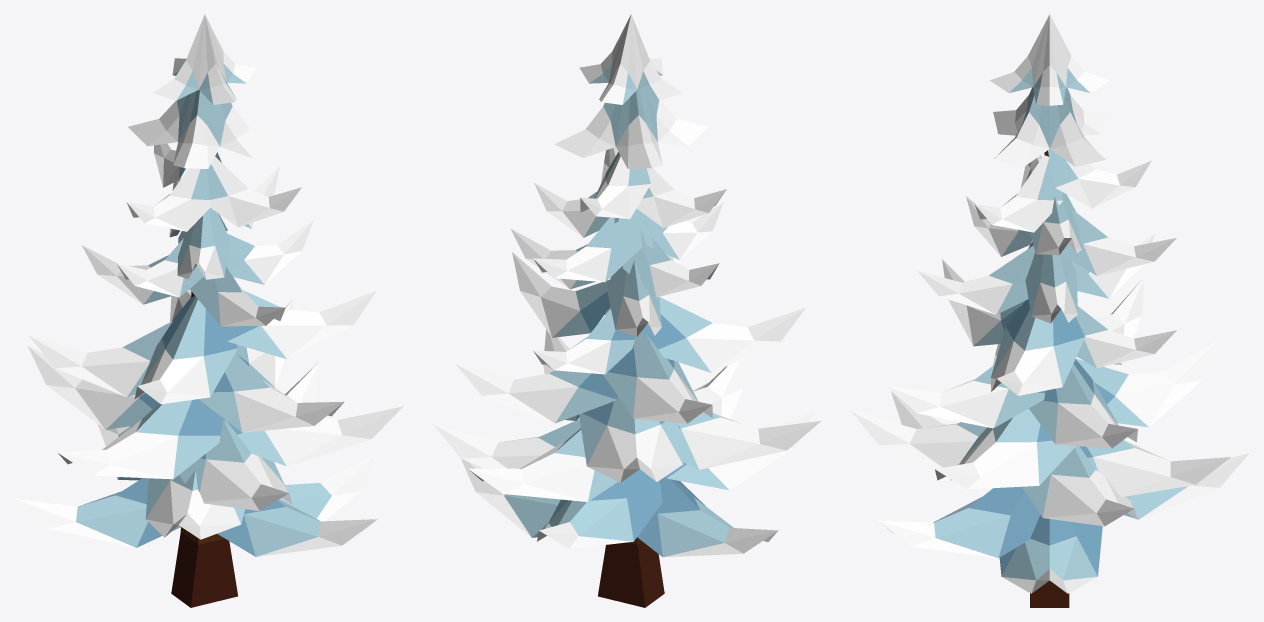
Rendered from spruce1.fbx.
3 views of the same model, side by side, from view 1: azimuth 30°, elevation 25°; view 2: azimuth 150°, elevation 25°; view 3: azimuth 270°, elevation 25° (orthographic).
Visible parts, largest first — view 1: plane_6, plane_12, plane_23, plane_9, plane_13, plane_3, plane_4, plane_15, plane_8, plane_11, plane_2, stem (+13 smaller); view 2: plane_7, plane_23, plane_12, plane_10, plane_3, plane_11, plane_14, plane_1, plane_6, plane_15, plane_24, plane_19 (+13 smaller); view 3: plane_4, plane_8, plane_15, plane_23, plane, plane_7, plane_14, plane_5, plane_13, plane_1, plane_24, plane_9 (+14 smaller).
Boxes of the visible parts, bbox=[...] form: plane_6: bbox=[57, 399, 225, 479]; plane_12: bbox=[134, 296, 237, 404]; plane_23: bbox=[128, 90, 281, 168]; plane_9: bbox=[179, 420, 292, 510]; plane_13: bbox=[199, 353, 344, 432]; plane_3: bbox=[15, 478, 180, 547]; plane_4: bbox=[217, 499, 377, 556]; plane_15: bbox=[221, 290, 376, 359]; plane_8: bbox=[226, 406, 403, 466]; plane_11: bbox=[29, 321, 172, 396]; plane_2: bbox=[145, 470, 245, 539]; stem: bbox=[171, 291, 237, 607]; plane_7: bbox=[579, 397, 684, 482]; plane_23: bbox=[554, 90, 707, 168]; plane_12: bbox=[642, 297, 805, 372]; plane_10: bbox=[537, 469, 662, 548]; plane_3: bbox=[637, 476, 778, 557]; plane_11: bbox=[603, 330, 712, 423]; plane_14: bbox=[455, 363, 617, 423]; plane_1: bbox=[468, 428, 617, 501]; plane_6: bbox=[676, 412, 820, 469]; plane_15: bbox=[512, 252, 610, 337]; plane_24: bbox=[579, 14, 682, 104]; plane_19: bbox=[533, 208, 642, 282]; plane_4: bbox=[876, 486, 1040, 558]; plane_8: bbox=[935, 408, 1075, 489]; plane_15: bbox=[991, 299, 1085, 395]; plane_23: bbox=[993, 87, 1106, 166]; plane: bbox=[999, 515, 1102, 593]; plane_7: bbox=[1076, 340, 1218, 427]; plane_14: bbox=[1029, 359, 1137, 448]; plane_5: bbox=[1022, 446, 1137, 526]; plane_13: bbox=[887, 365, 1045, 428]; plane_1: bbox=[1080, 440, 1230, 497]; plane_24: bbox=[990, 14, 1109, 105]; plane_9: bbox=[850, 410, 986, 468].
Size of the model in its own units: 631 by 1024 by 637.
1 material, 1 textured.
